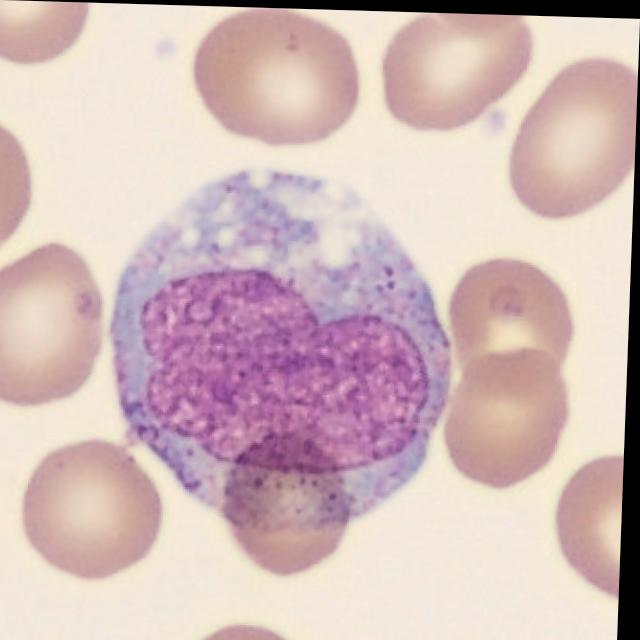Monocito: (111, 168, 454, 527)
